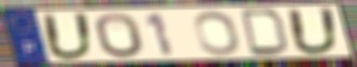1: (145, 12, 177, 57)
D: (238, 8, 292, 57)
O: (93, 12, 148, 59), (191, 10, 244, 57)
U: (38, 12, 97, 62), (284, 7, 343, 56)
